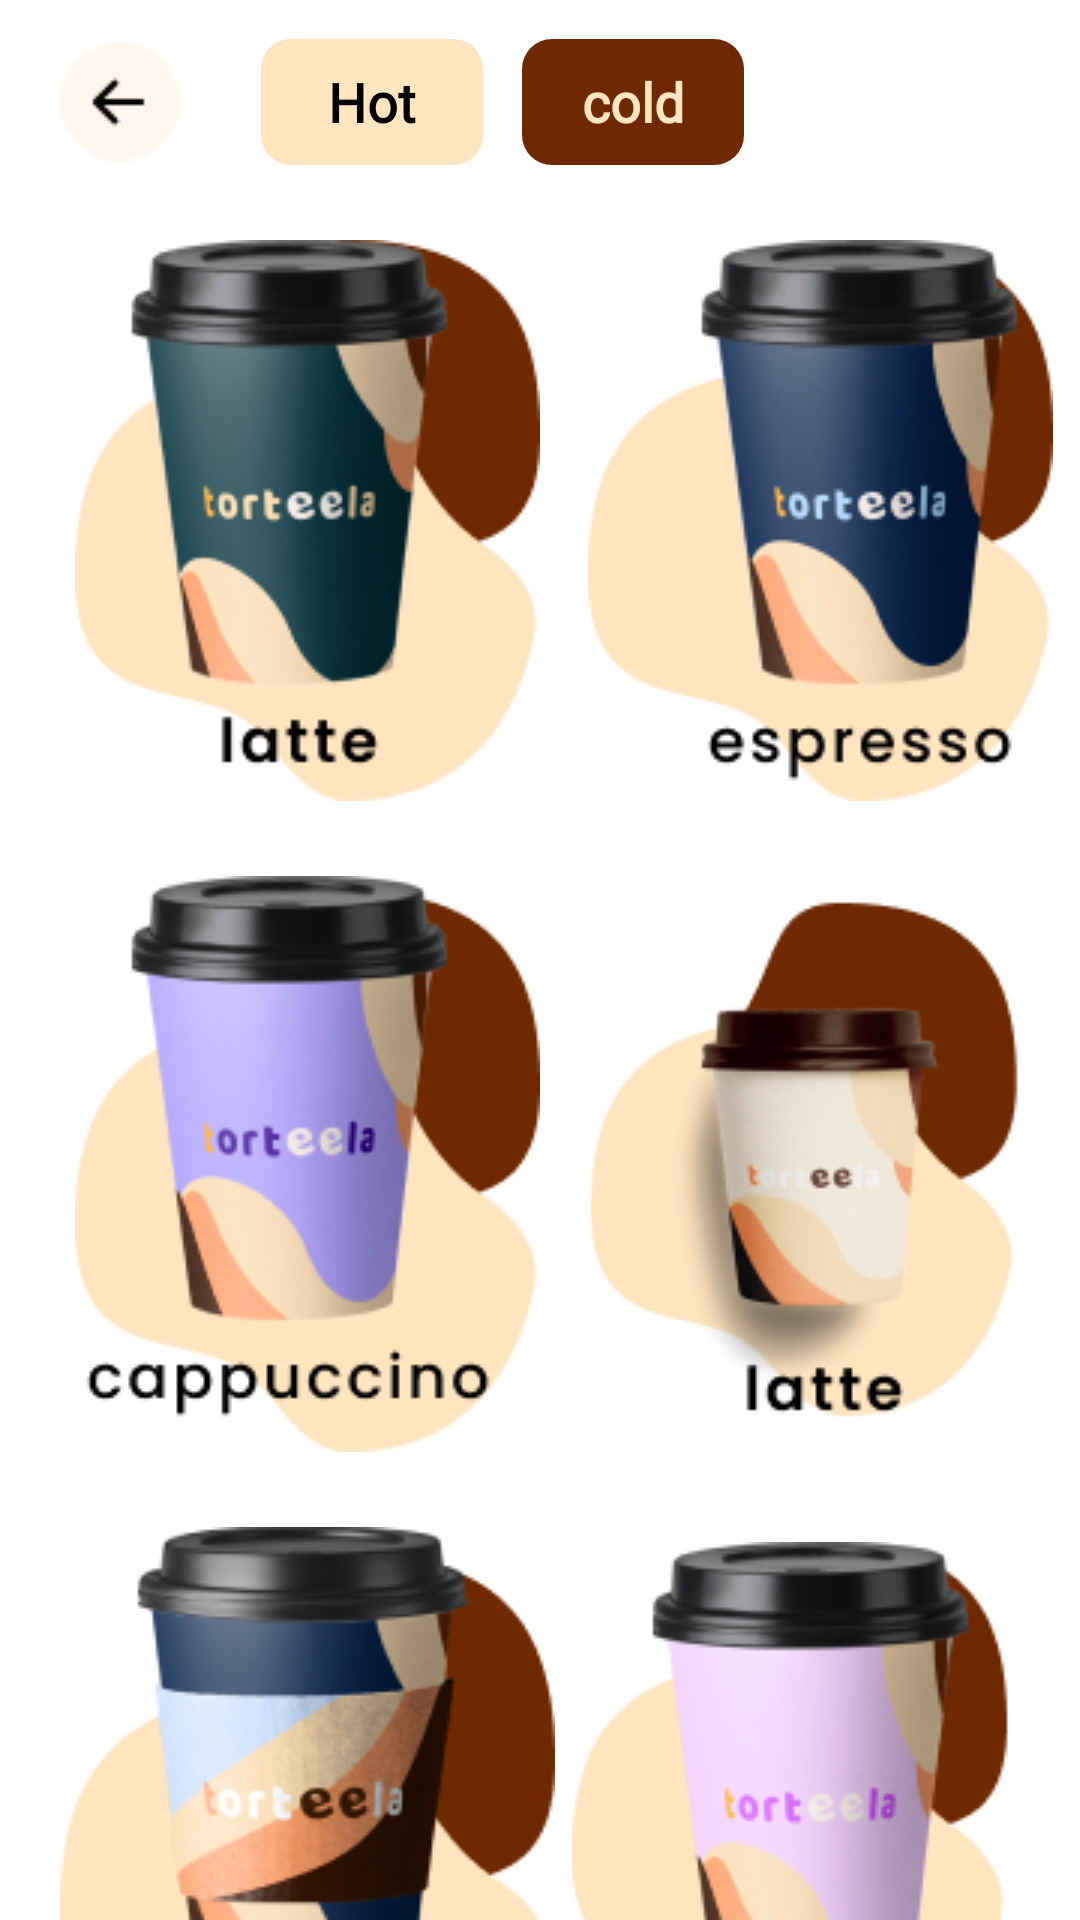

Where to tap for icons on this 1080px×1920px app screen, as (x=x, y=y):
prev: (x=120, y=102)
